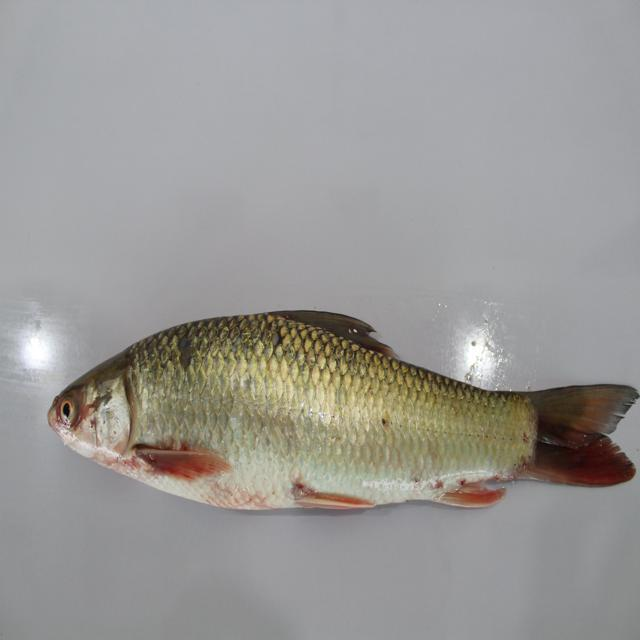Mori: (44, 302, 640, 549)
